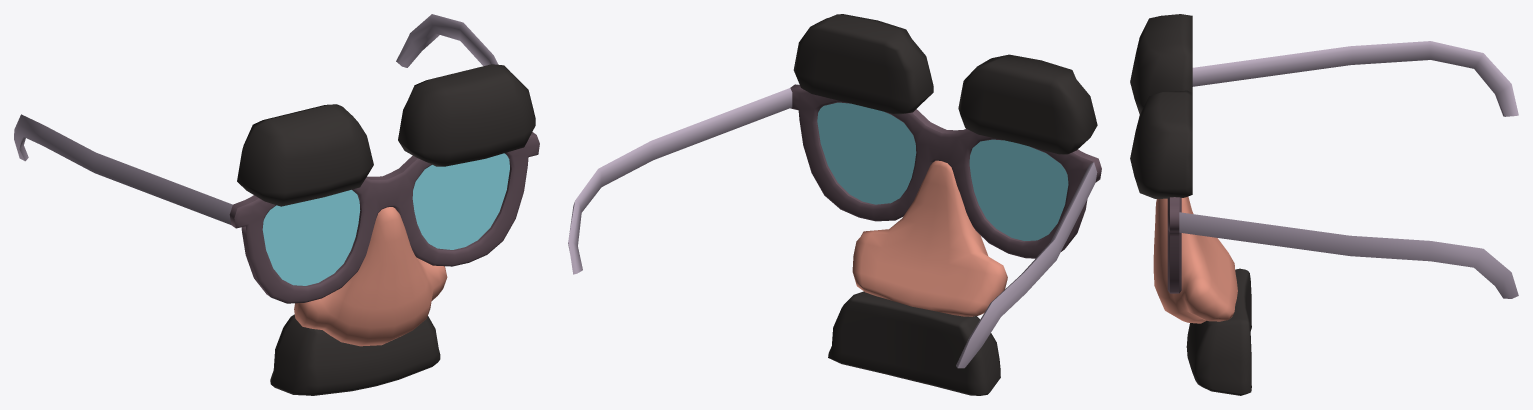
File: Glasses_01_01.fbx
The picture shows the model from 3 angles, left to right: view 1: azimuth 30°, elevation 25°; view 2: azimuth 150°, elevation 25°; view 3: azimuth 270°, elevation 25°; orthographic projection. The views are drawn at different scales.
Parts seen in each view (by area): view 1: Glasses_01_01; view 2: Glasses_01_01; view 3: Glasses_01_01.
Part boxes in pixels (x1,y1,x2,y2): Glasses_01_01: [14, 14, 539, 395]; Glasses_01_01: [568, 14, 1101, 395]; Glasses_01_01: [1130, 14, 1518, 395].
Size of the model in its own units: 38.47 by 26.3 by 31.16.
